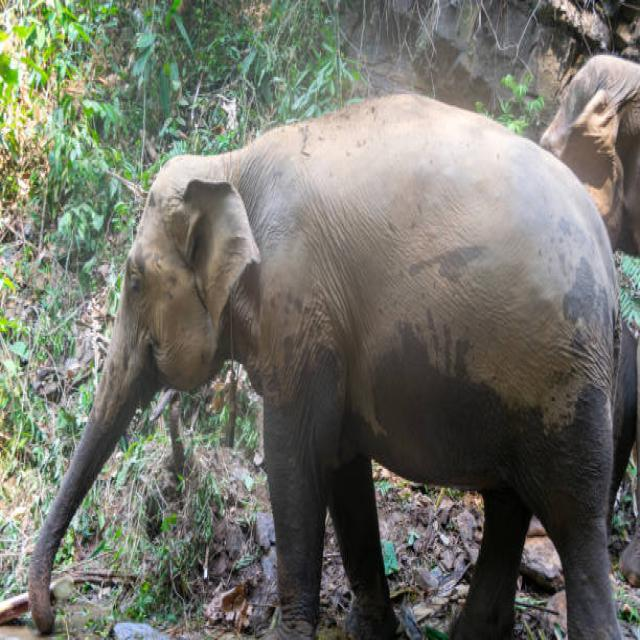Elephant: (37, 87, 640, 640)
